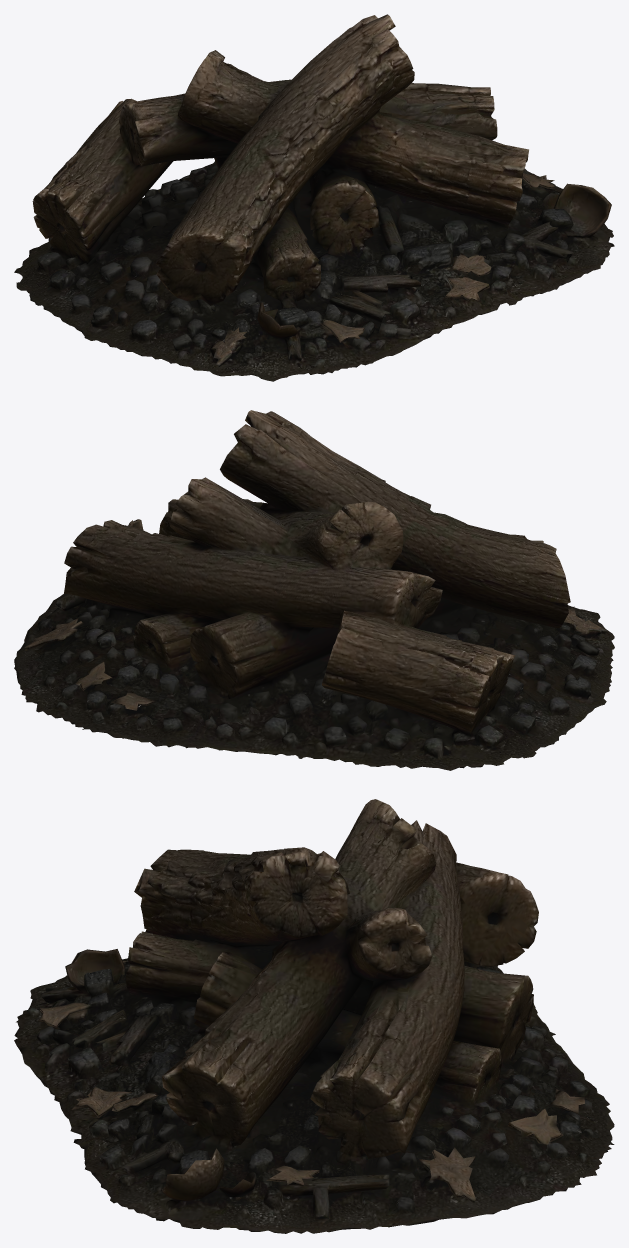
Rendered from Fireplace_logs.fbx.
3 views of the same model, one above another, from view 1: azimuth 30°, elevation 25°; view 2: azimuth 150°, elevation 25°; view 3: azimuth 270°, elevation 25° (orthographic). The views are drawn at different scales.
Parts seen in each view (by area): view 1: fireplace_logs; view 2: fireplace_logs; view 3: fireplace_logs.
Part boxes in pixels (bbox=[...]): fireplace_logs: bbox=[14, 14, 614, 381]; fireplace_logs: bbox=[14, 410, 614, 770]; fireplace_logs: bbox=[14, 799, 614, 1233].
Size of the model in its own units: 97.19 by 41.13 by 82.14.
1 material, 1 textured.
